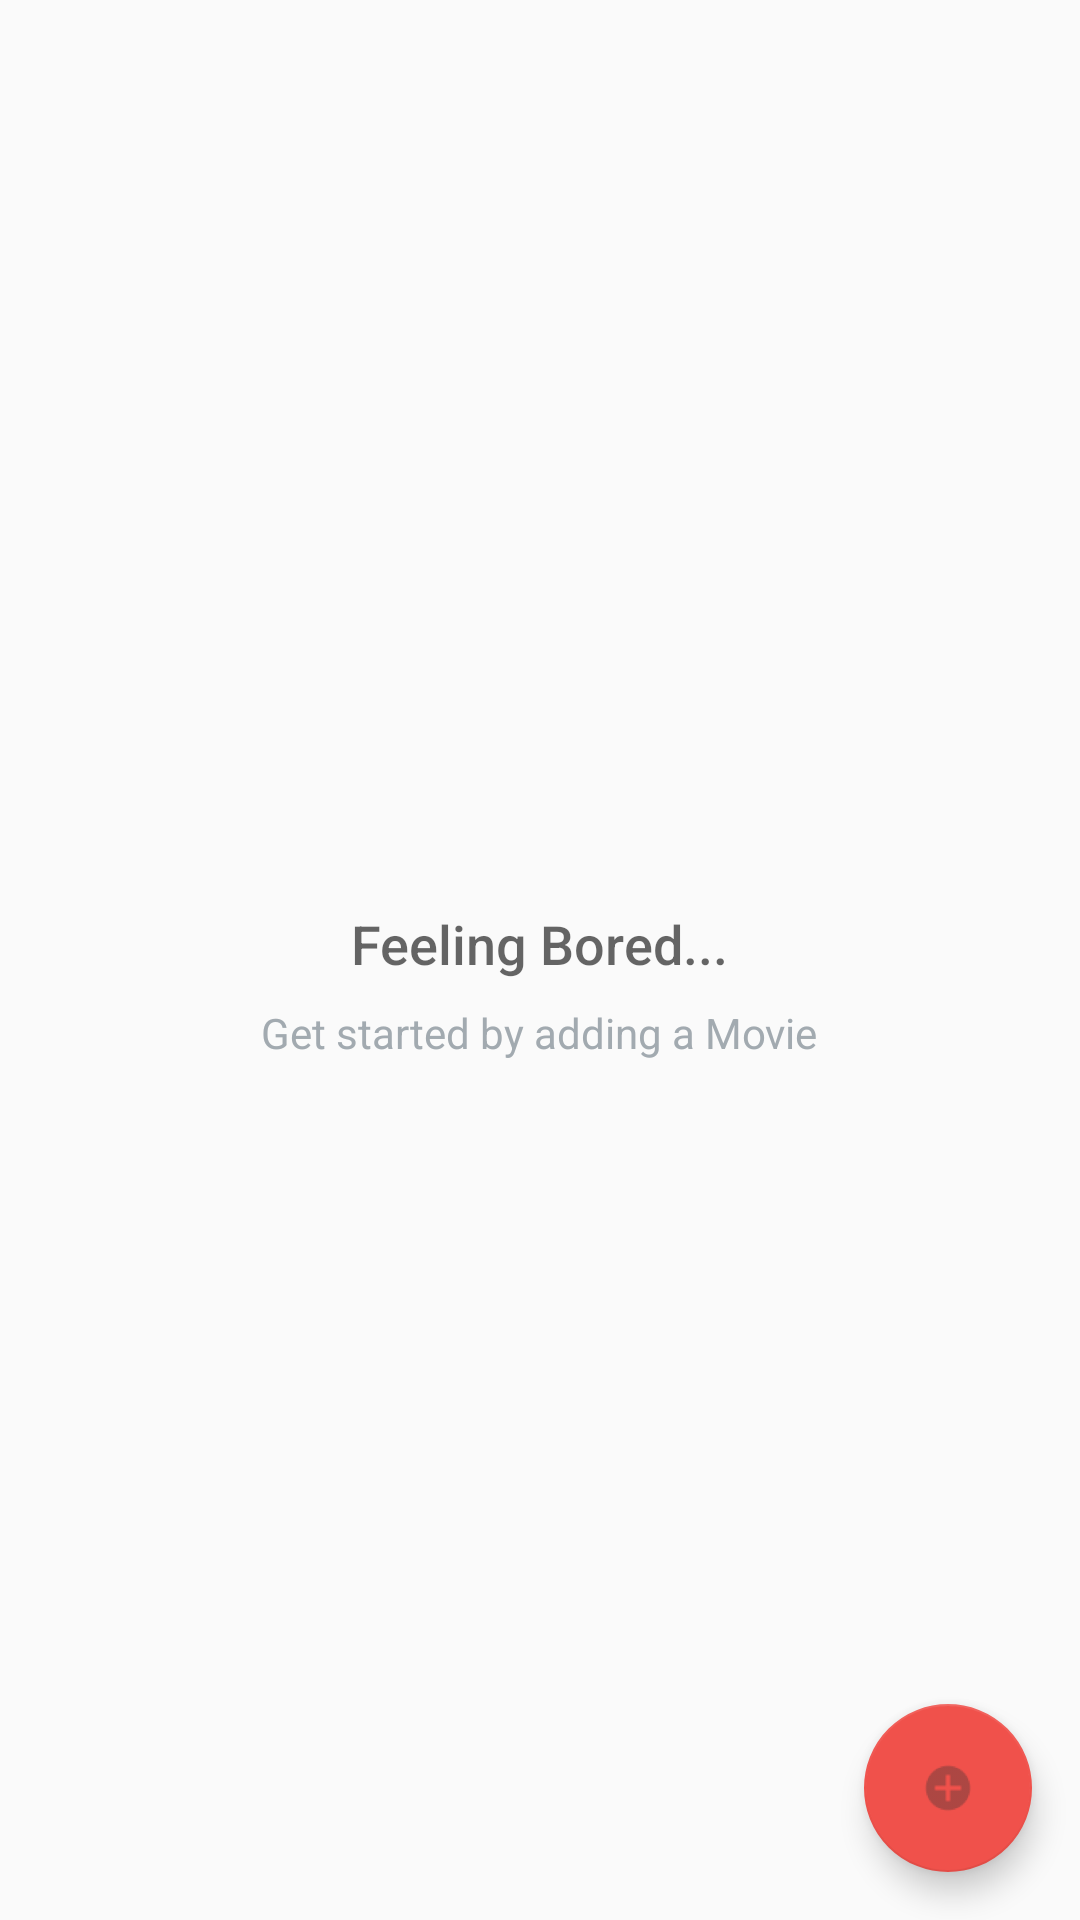

Point at icon controls on the screen. Image size 1080px x 1920px, points as [x,y].
name plus: [948,1788]
